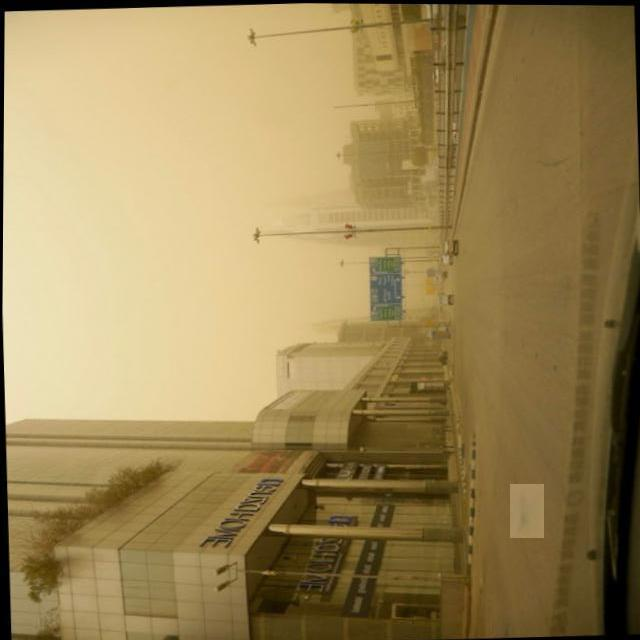Pothole: (510, 484, 544, 538)
